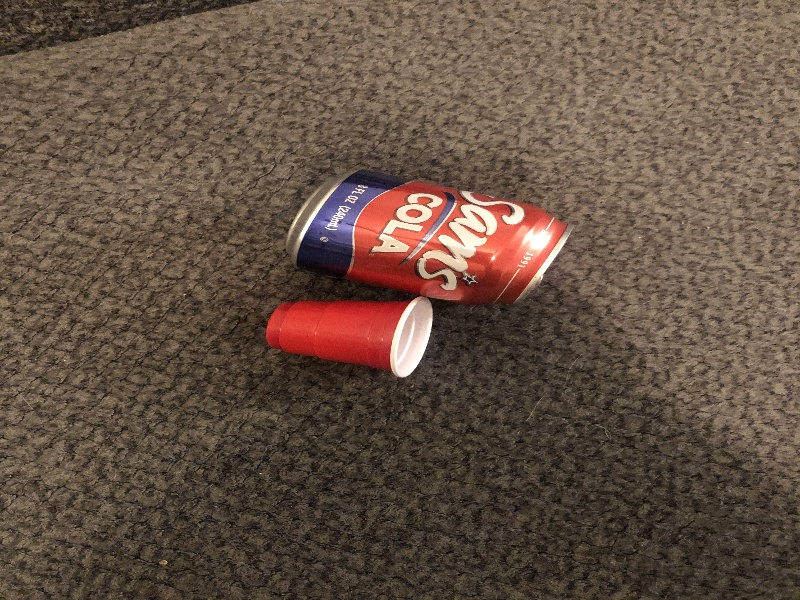metal: (275, 164, 575, 309)
plastic: (262, 294, 433, 381)
